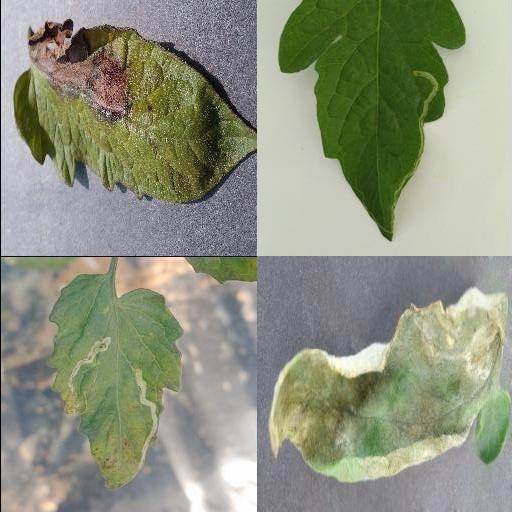Late Blight: (266, 288, 512, 486), (12, 18, 256, 205)
Leaf Miner: (277, 1, 465, 245), (44, 271, 186, 489)
